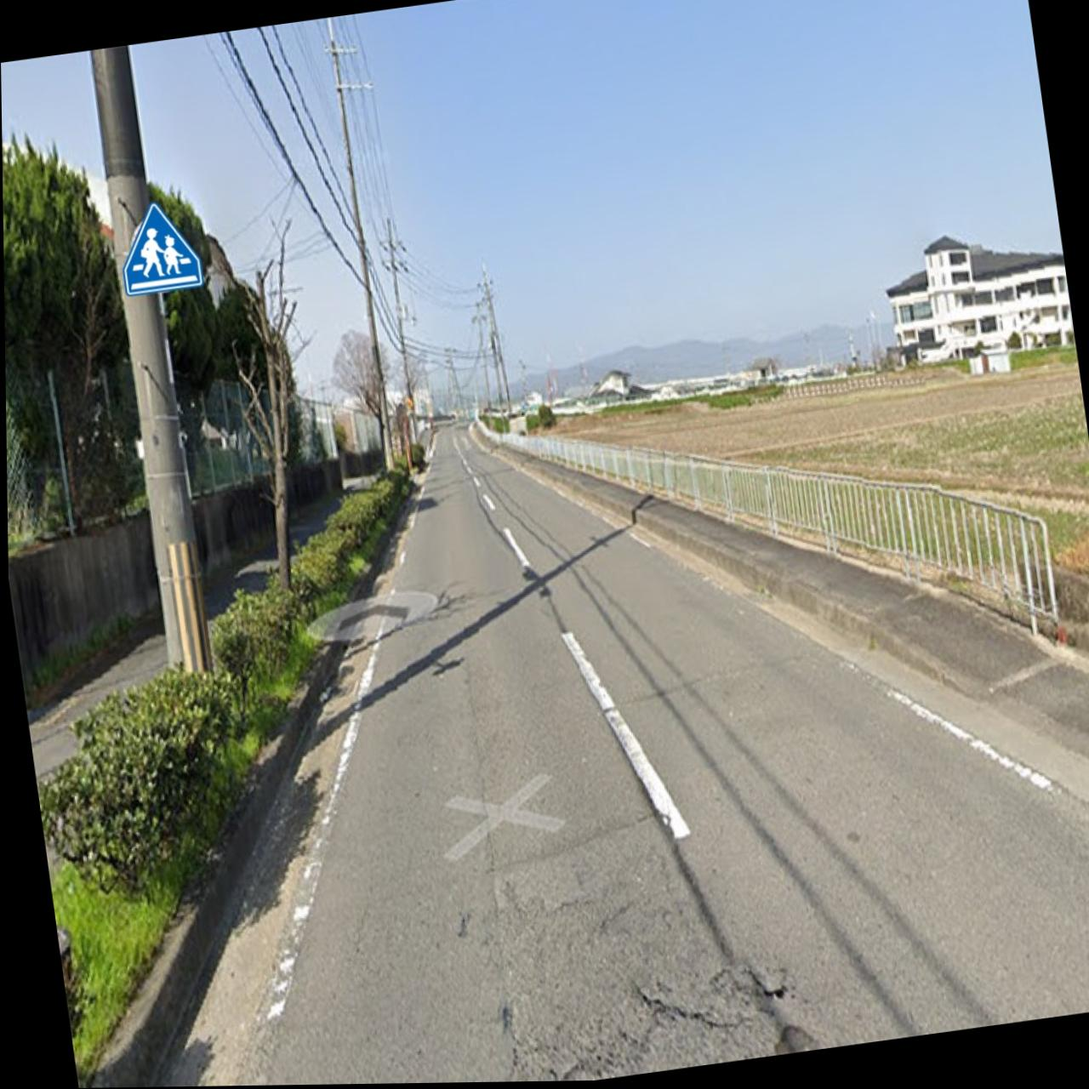cone: (59, 124, 187, 417)
